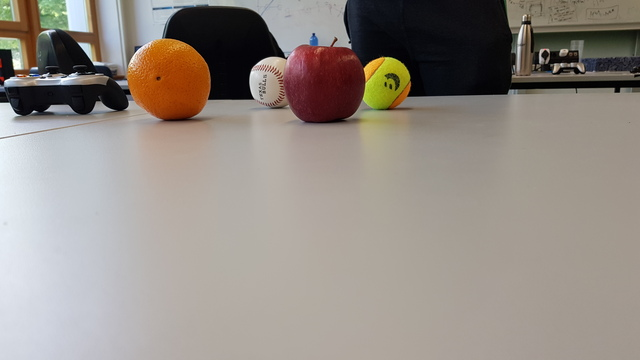013_apple: (284, 37, 366, 122)
017_orange: (128, 38, 213, 122)
055_baseball: (248, 57, 287, 110)
056_tennis_ball: (361, 56, 411, 109)
